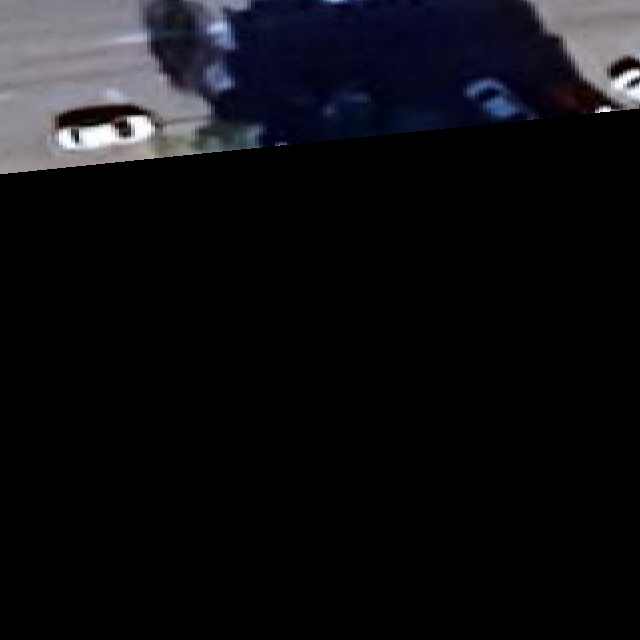car: (0, 0, 637, 172), (52, 103, 159, 150), (464, 77, 536, 120), (607, 52, 639, 100)
